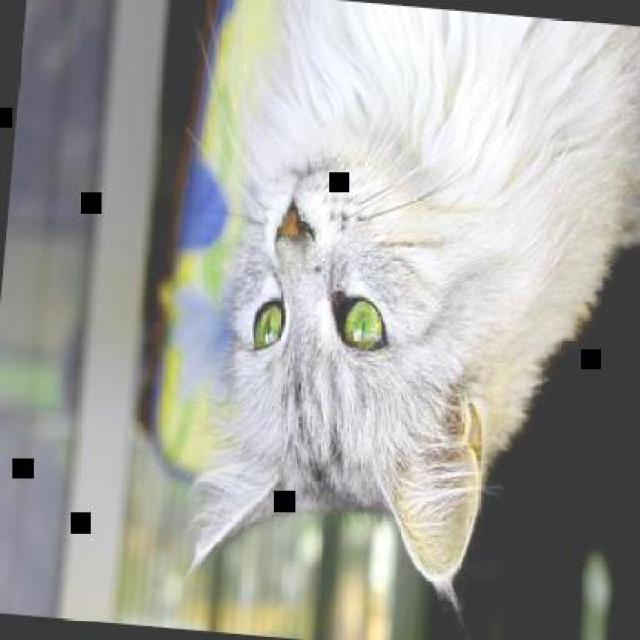cat: (191, 0, 638, 606)
